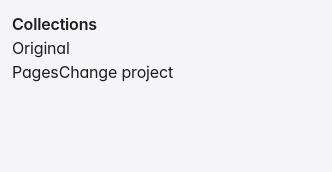
does not block or refetch session access on ordinary project-page navigation
Expected: the heading "Collections" is shown, [12,14,97,34]
Click the link "Pages": point(35, 72) [12,62,59,82]
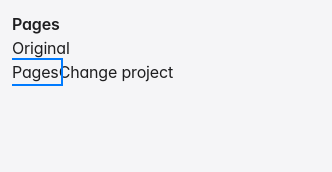
Expected: the heading "Pages" is shown, [12,14,60,34]
